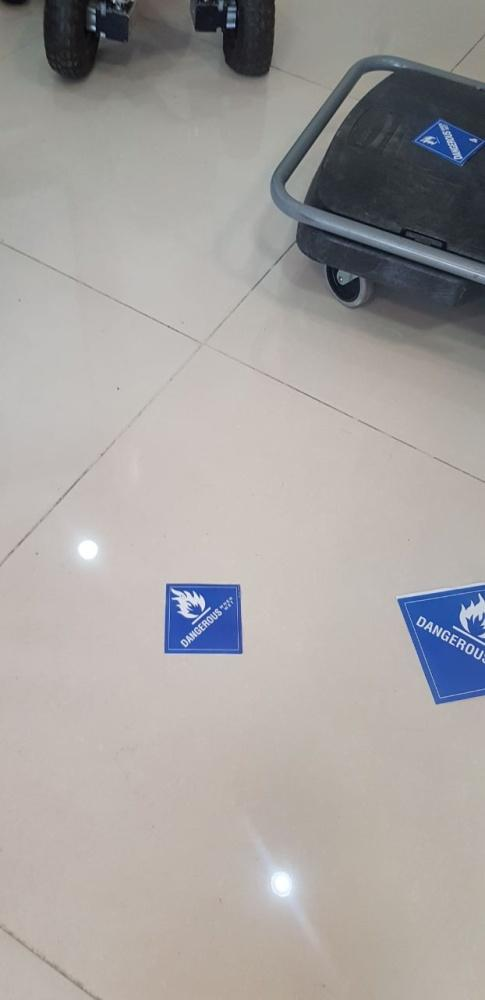dangerous-when-wet: (400, 582, 485, 705), (165, 584, 242, 654), (412, 114, 485, 174)
